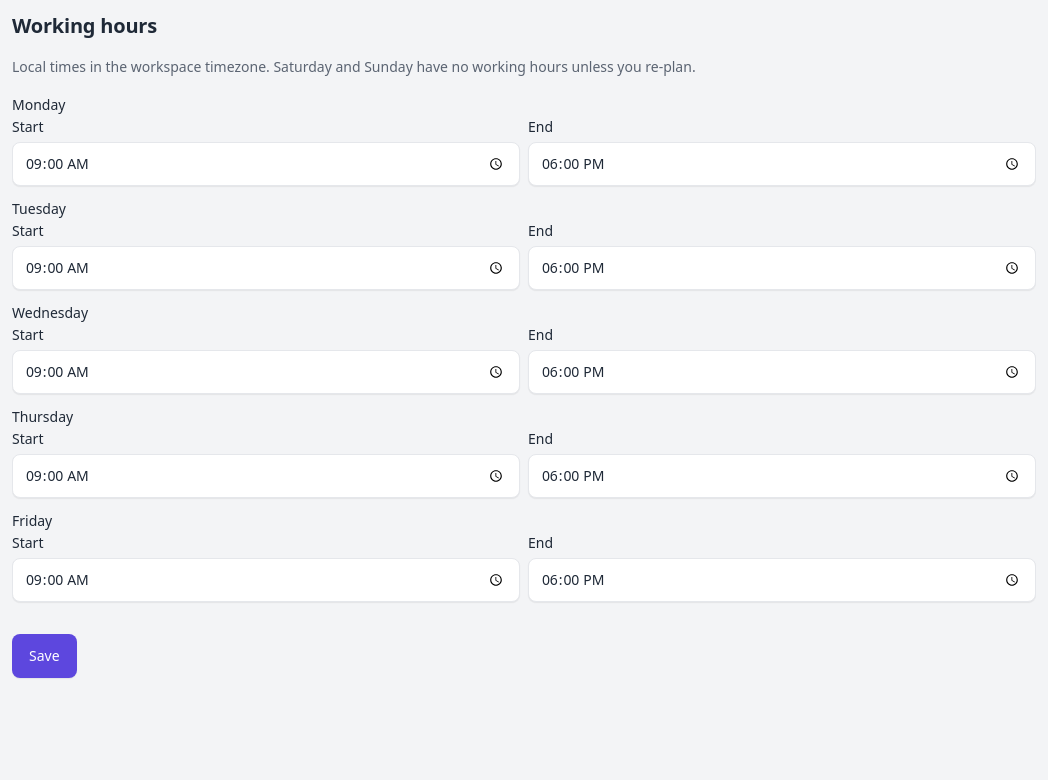
Test case: WorkingHoursSection › [P1-10][FR-4.7] T-P1-10-13 edit weekday hours
The width and height of the screenshot is (1048, 780).
Expected: the time field named "Friday start" holds "09:00", [12,558,520,602]
Replace the text in the time field named "Monday end" with "08:00": (782,164) [528,142,1036,186]
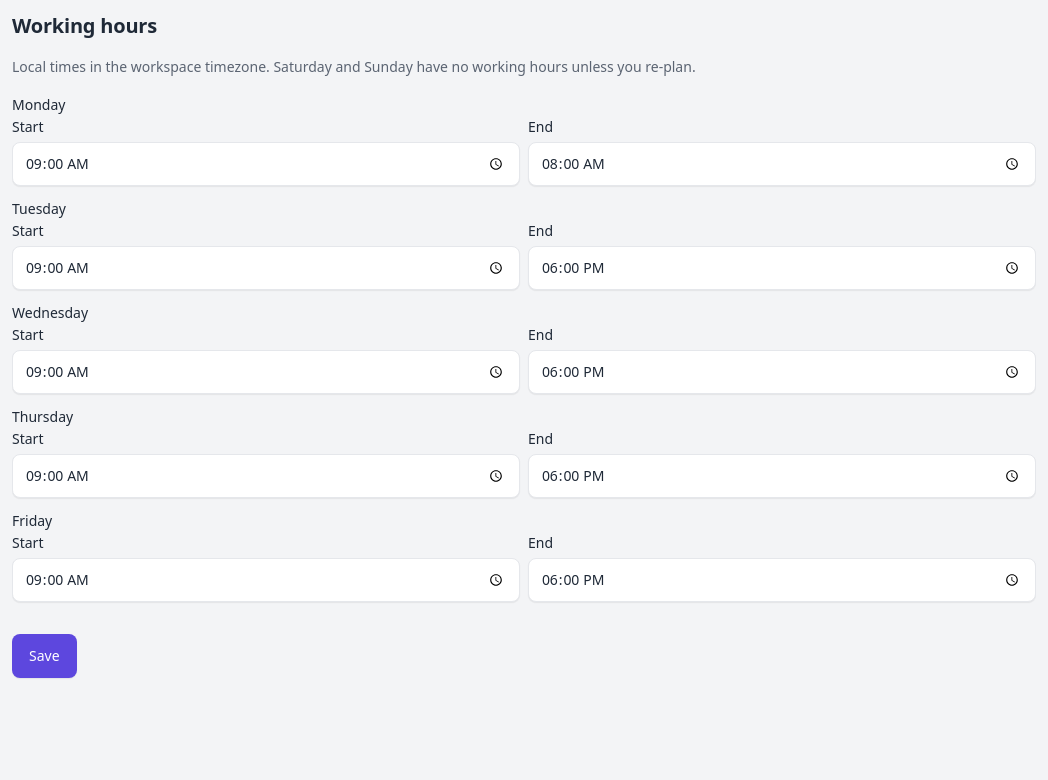
Click the button "Save": (44,656) [12,634,77,678]
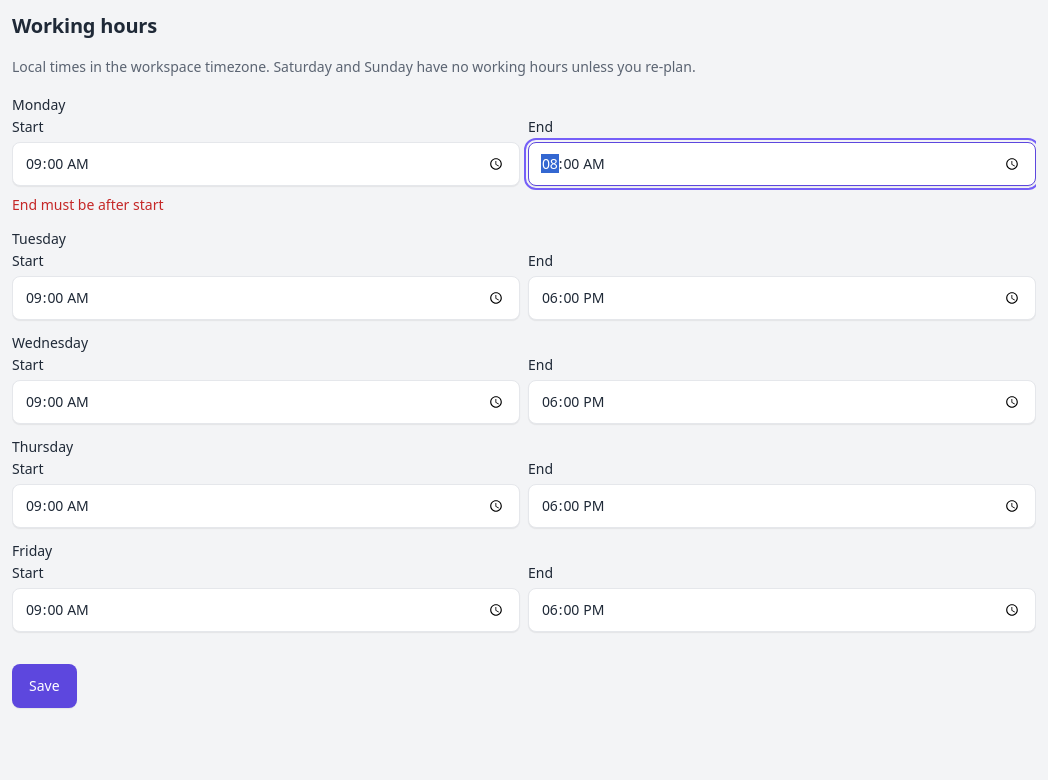
Now the text "End must be after start" is shown, box [12,195,164,214]
Fixed, the week is saved in one PUT the generated schema accepts.
Replace the text in the time field named "Monday end" with "17:30": (782,164) [528,142,1036,186]
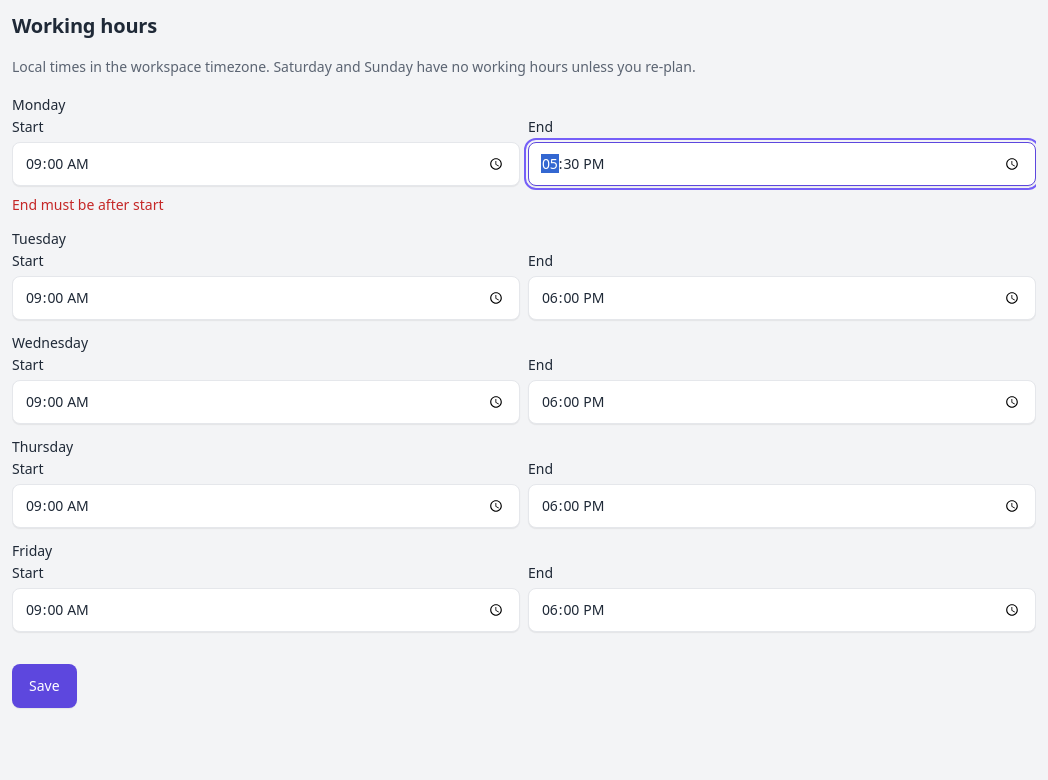
Replace the text in the time field named "Friday start" with "10:00": (266,610) [12,588,520,632]
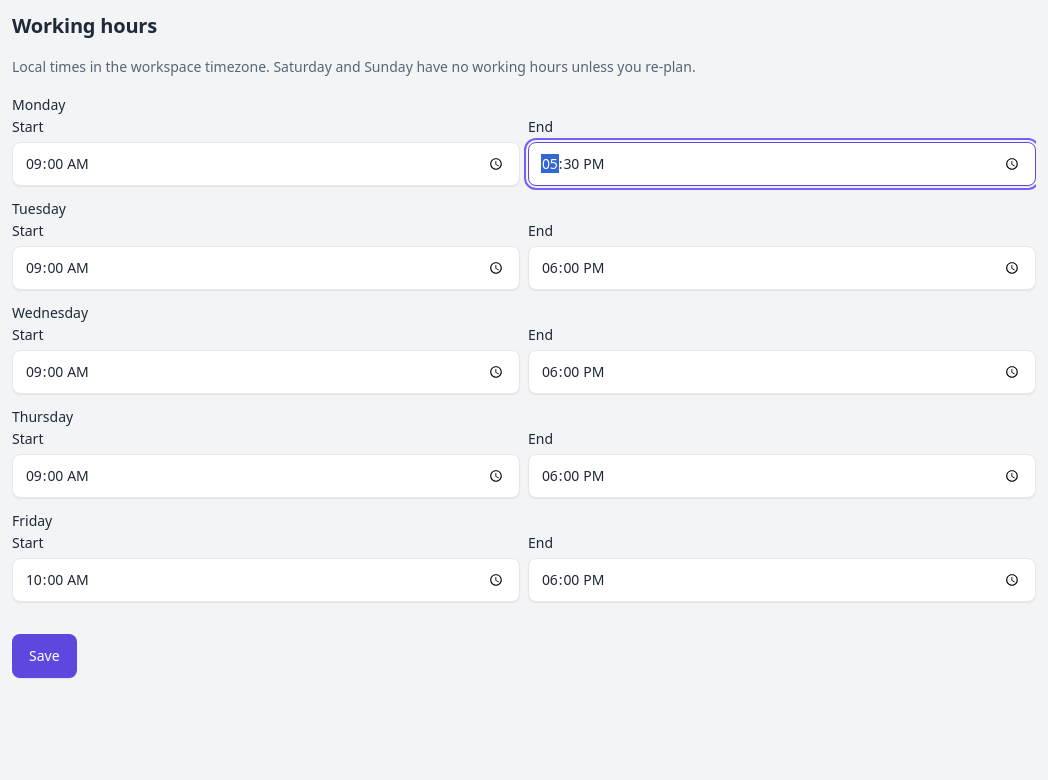
Click the button "Save": (44,656) [12,634,77,678]
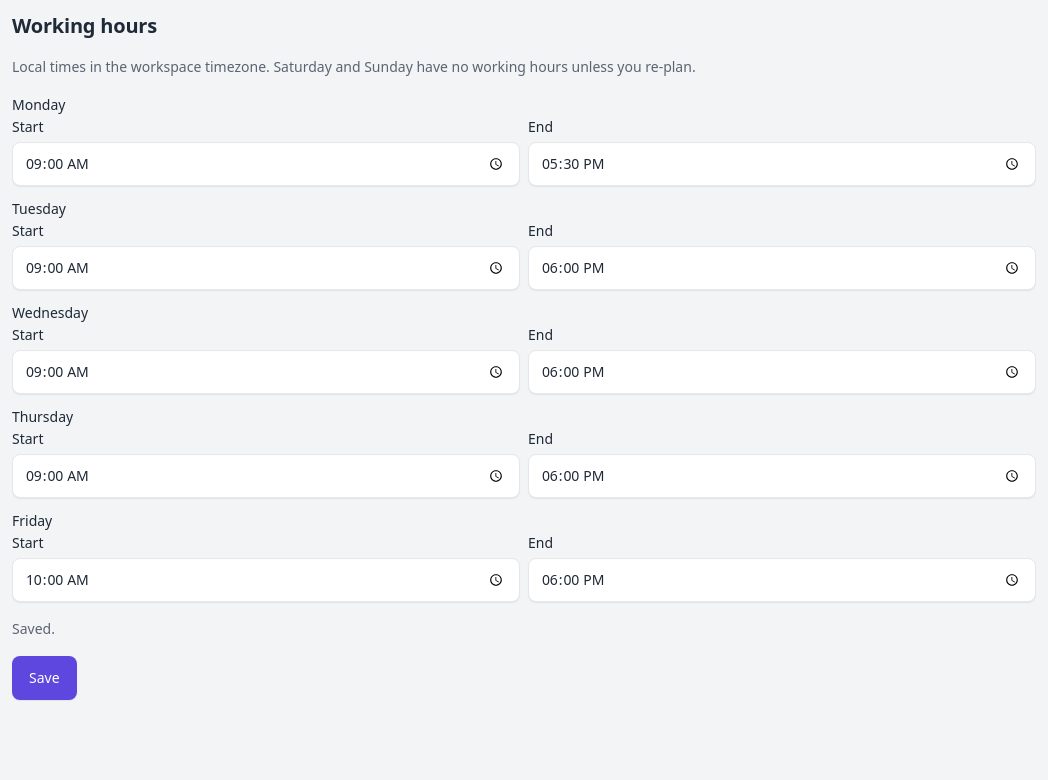
Now the message reads "Saved.", box [12,619,55,638]
